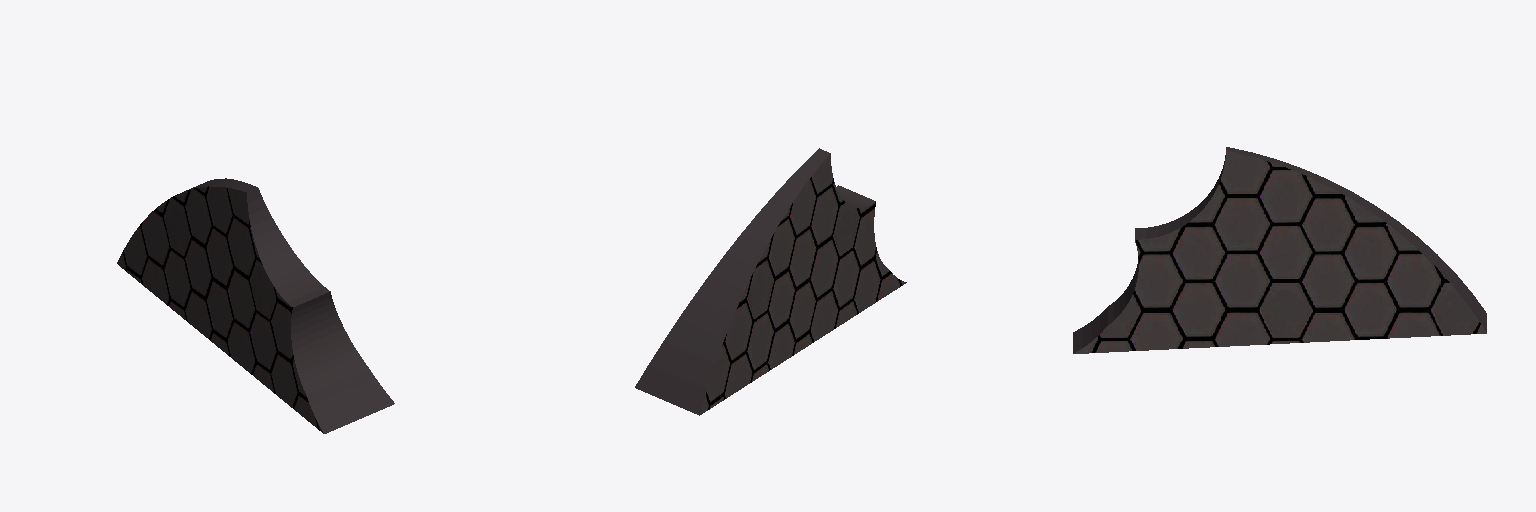
3 renders of one model, left to right at view 1: azimuth 30°, elevation 25°; view 2: azimuth 150°, elevation 25°; view 3: azimuth 270°, elevation 25°, orthographic.
Visible parts, largest first — view 1: togezo_koura-SKP--_Tile_Hexagon_White_l2, togezo_koura-SKP--_Asphalt_New_l2; view 2: togezo_koura-SKP--_Tile_Hexagon_White_l2, togezo_koura-SKP--_Asphalt_New_l2; view 3: togezo_koura-SKP--_Tile_Hexagon_White_l2, togezo_koura-SKP--_Asphalt_New_l2.
Boxes of the visible parts, box(x1,y1,x2,y2) form: togezo_koura-SKP--_Tile_Hexagon_White_l2: box(117, 186, 323, 433); togezo_koura-SKP--_Asphalt_New_l2: box(186, 178, 394, 433); togezo_koura-SKP--_Tile_Hexagon_White_l2: box(700, 154, 906, 414); togezo_koura-SKP--_Asphalt_New_l2: box(635, 148, 901, 415); togezo_koura-SKP--_Tile_Hexagon_White_l2: box(1074, 150, 1486, 353); togezo_koura-SKP--_Asphalt_New_l2: box(1073, 147, 1486, 353).
Size of the model in its own units: 0.1448 by 0.3624 by 0.7253.
Materials: 3 (1 with a texture image).